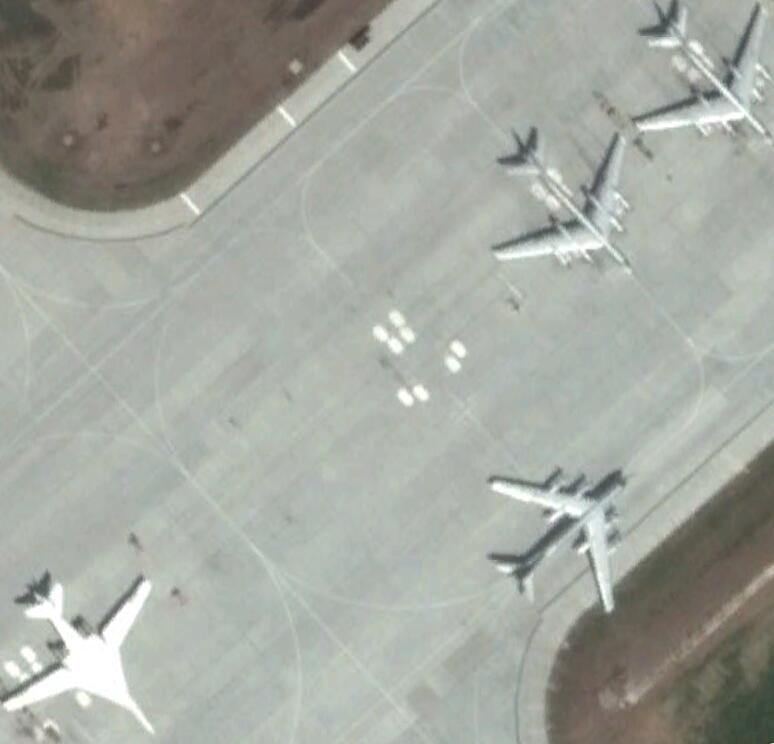A17: (485, 462, 633, 618), (489, 132, 635, 277), (635, 4, 772, 141)
A6: (1, 578, 155, 739)
